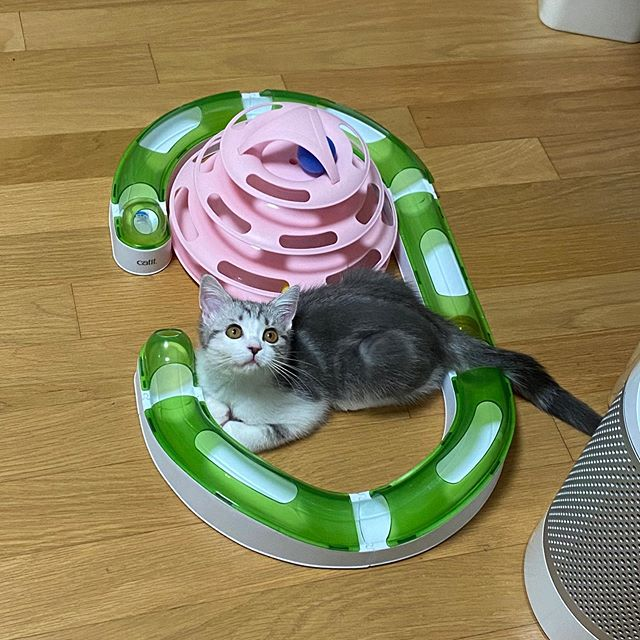cat: (191, 272, 304, 383)
